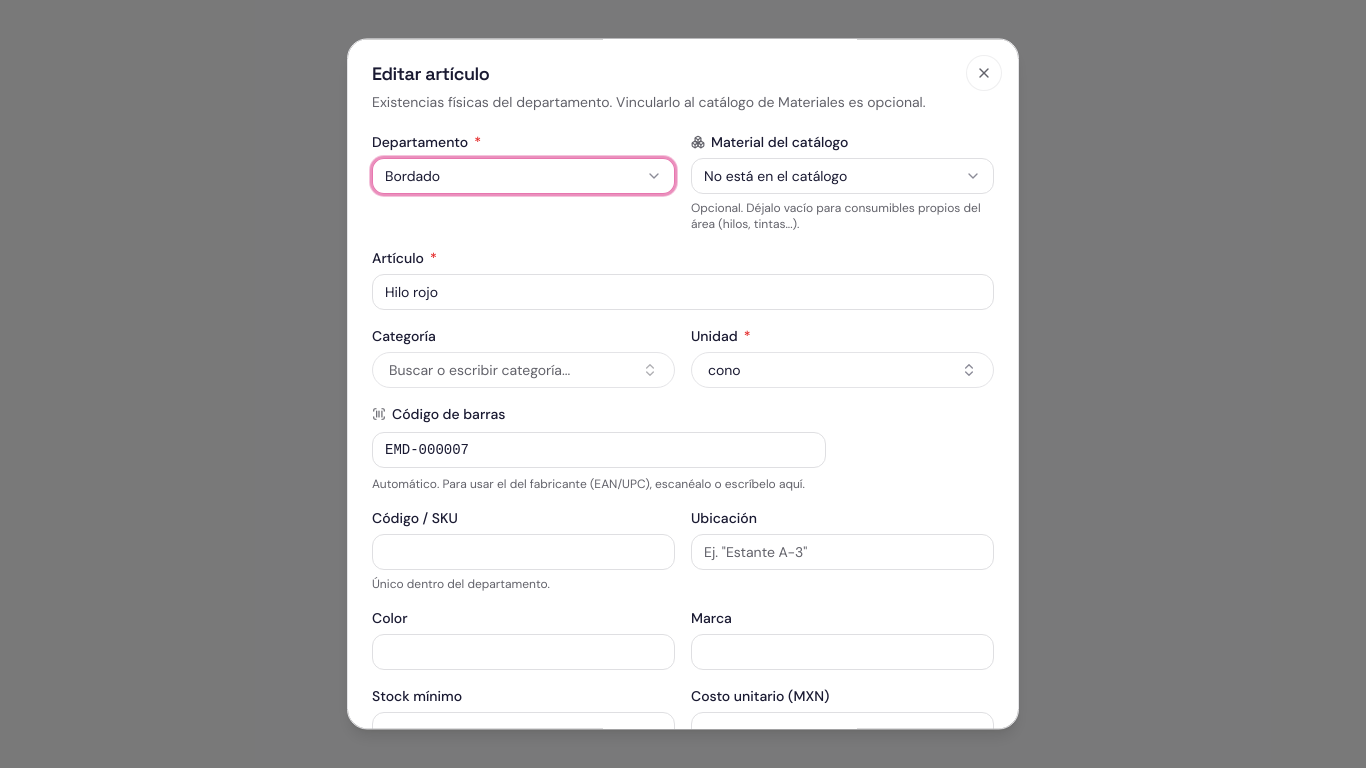
it: InventoryItemDialog · código de barras › valida antes de mandar: EMD-<número> ajeno está reservado
This screenshot has width=1366, height=768.
Step 1. Clear the field labelled "Código de barras" → {"x": 599, "y": 450}, box [372,432,826,468]
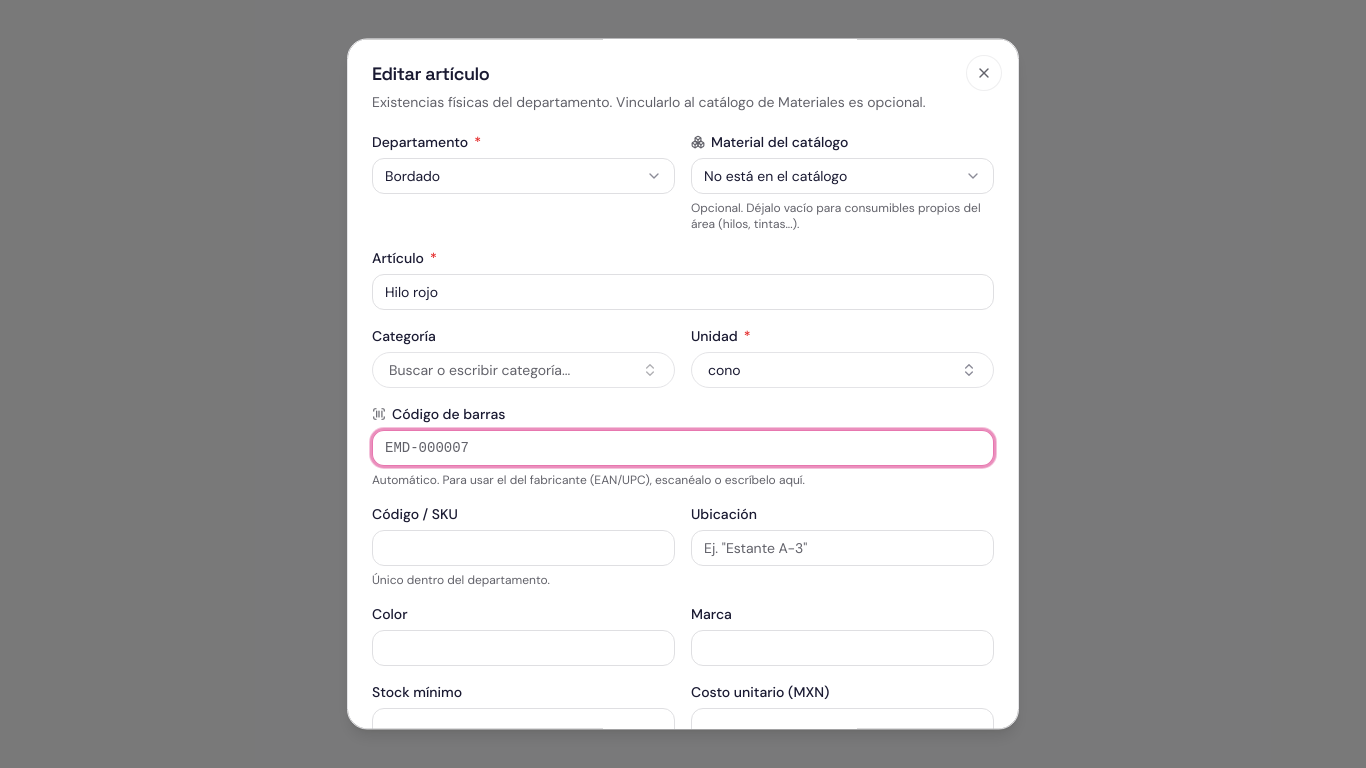
Step 2. Type "EMD-000999" into the field labelled "Código de barras" → {"x": 683, "y": 448}, box [372,430,994,466]
(page scrolled)
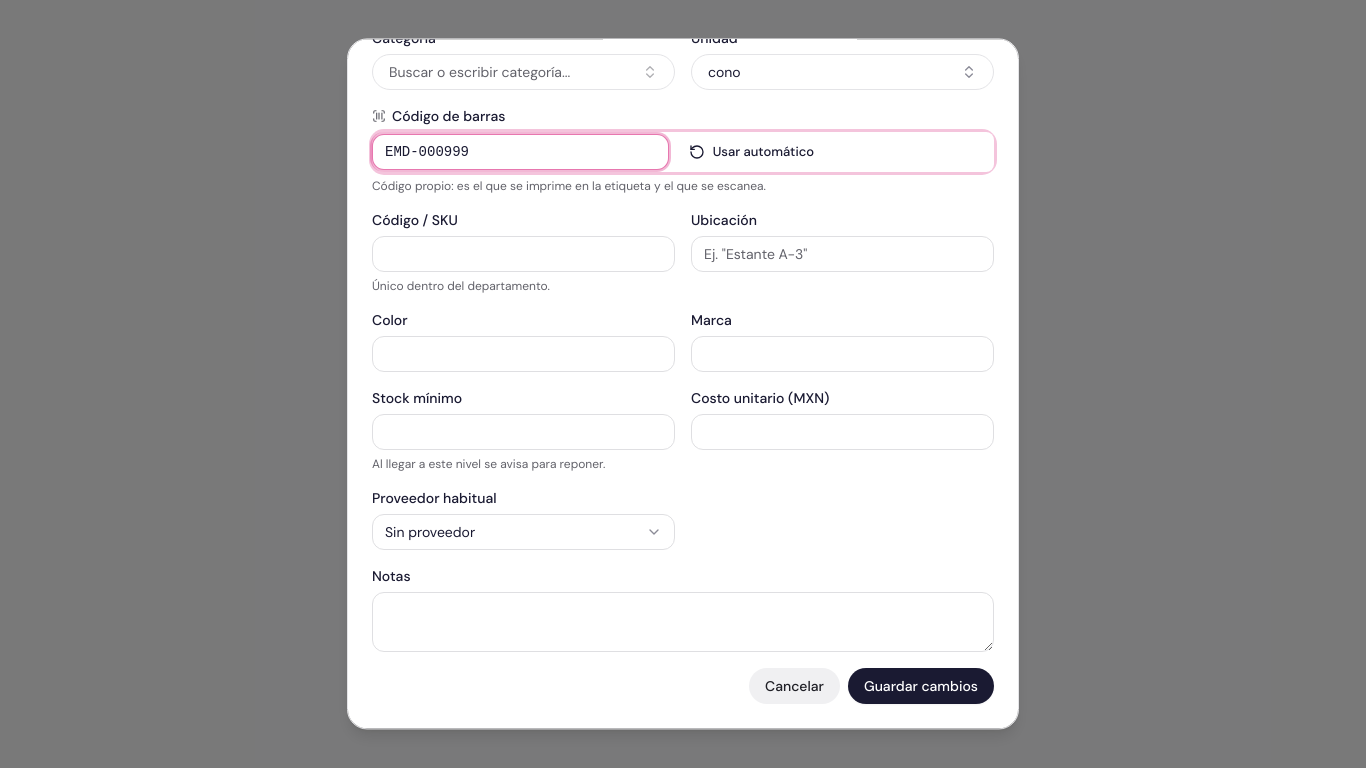
Step 3. Click the button "Guardar cambios" → {"x": 921, "y": 686}, box [848,668,994,704]
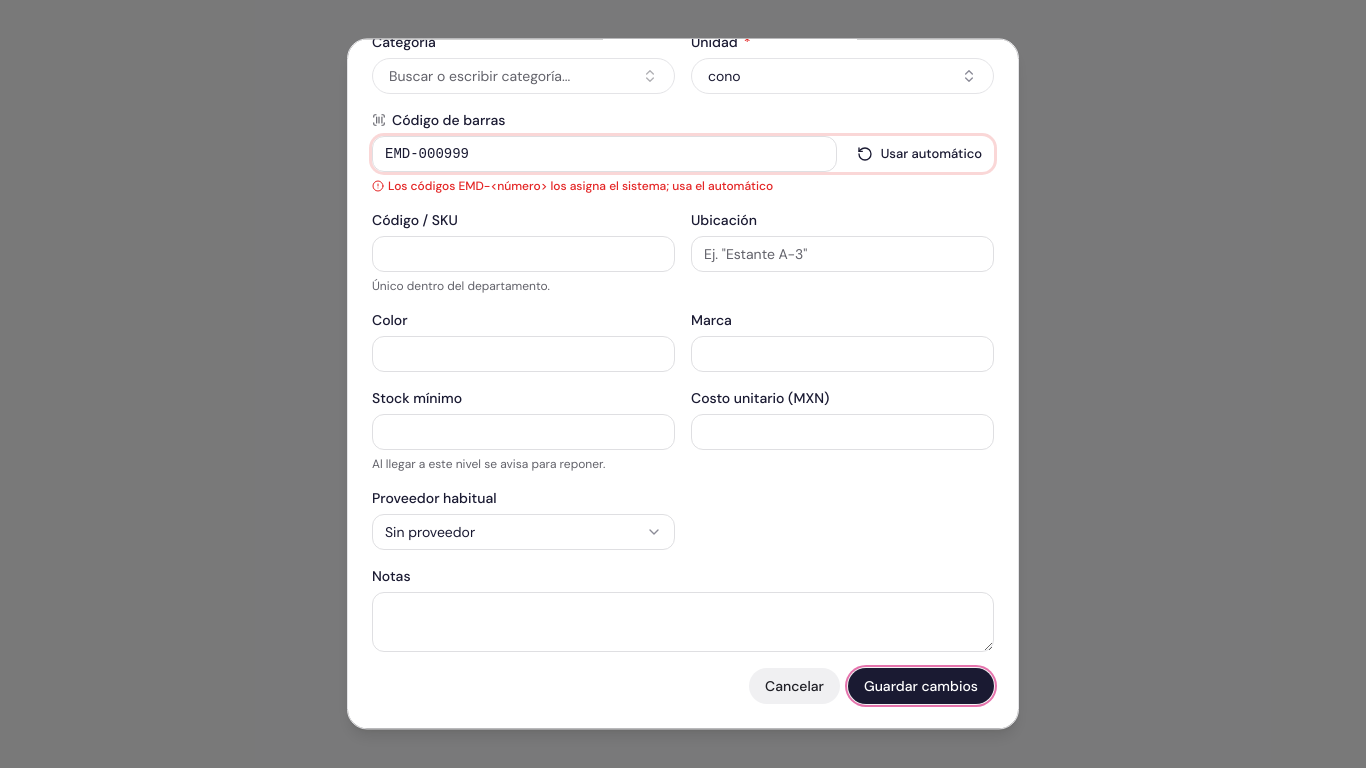
Result: the text "Los códigos EMD-<número> los asigna el sistema; usa el automático" is shown at [372,178,773,194]
